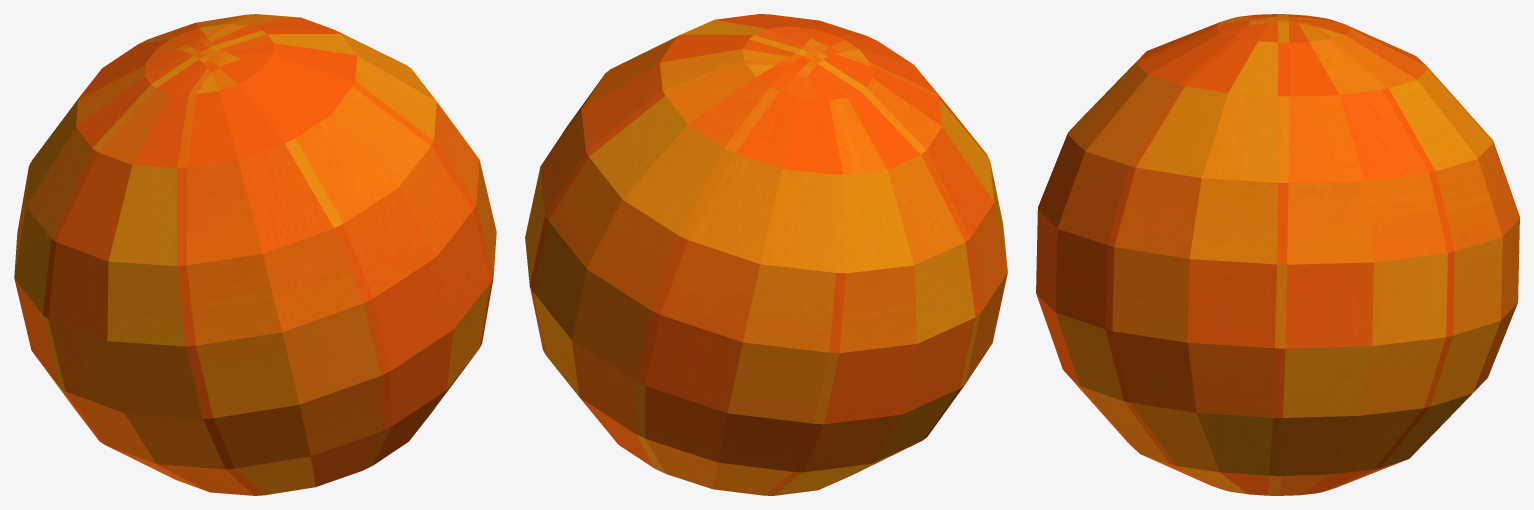
File: Pelota.obj
3 views of the same model, side by side, from view 1: azimuth 30°, elevation 25°; view 2: azimuth 150°, elevation 25°; view 3: azimuth 270°, elevation 25° (orthographic).
Parts seen in each view (by area): view 1: Pelota_OpenGl; view 2: Pelota_OpenGl; view 3: Pelota_OpenGl.
Boxes of the visible parts, x1,y1,x2,y2 form: Pelota_OpenGl: (14, 14, 496, 495); Pelota_OpenGl: (525, 14, 1007, 495); Pelota_OpenGl: (1036, 14, 1519, 495).
Bounding box in the file's own units: 0.1522 × 0.15 × 0.1506.
1 material, 1 textured.
